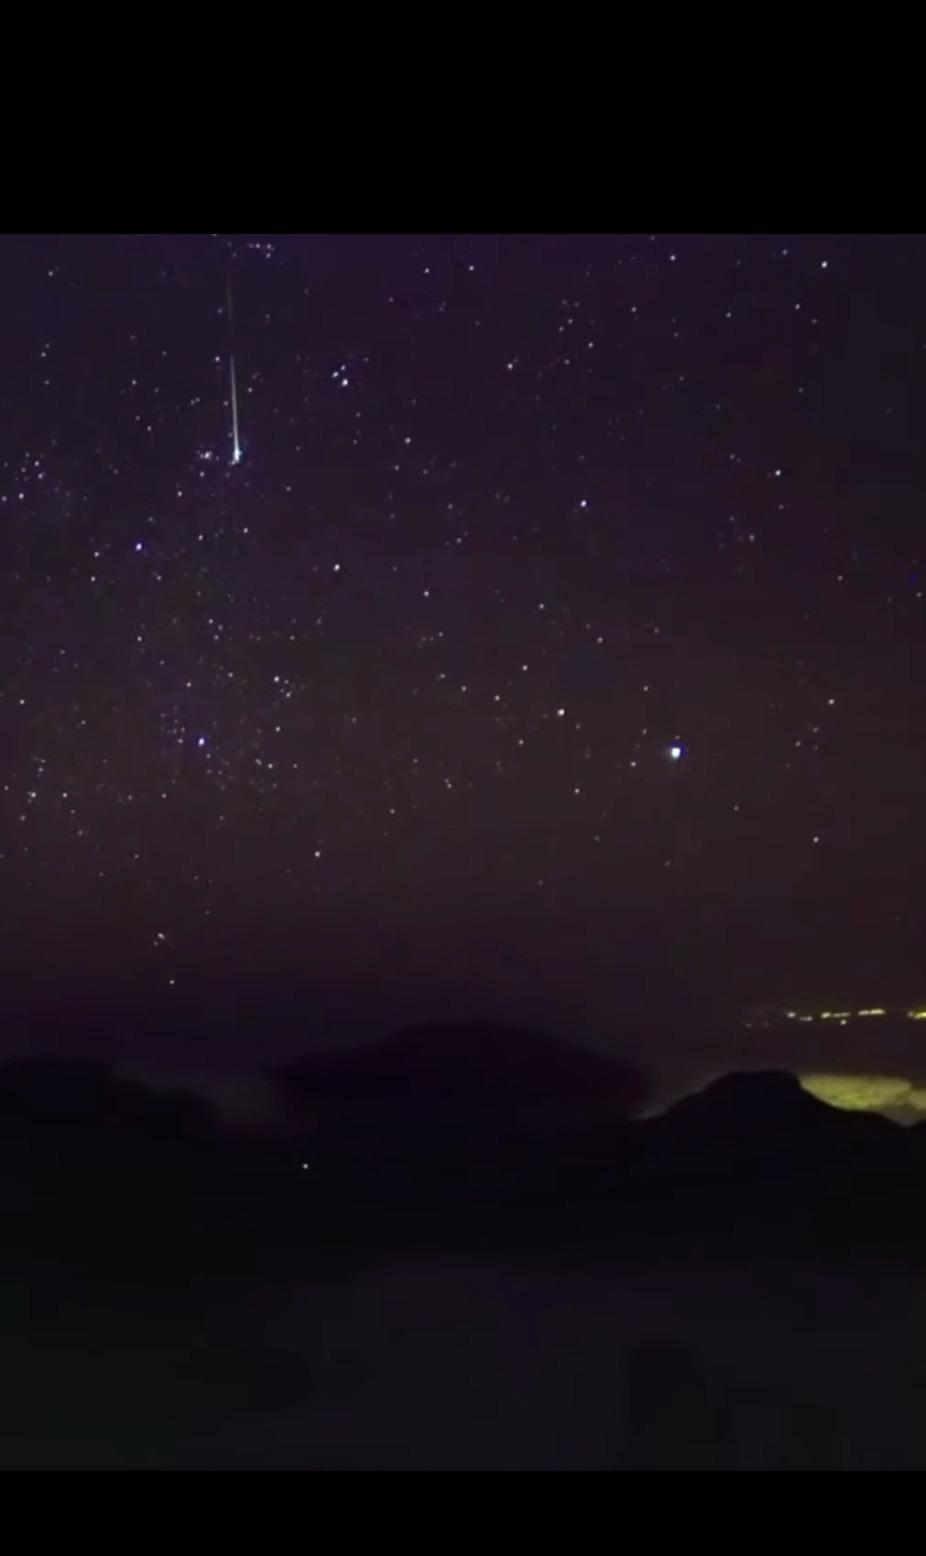meteorite: (209, 353, 262, 471)
